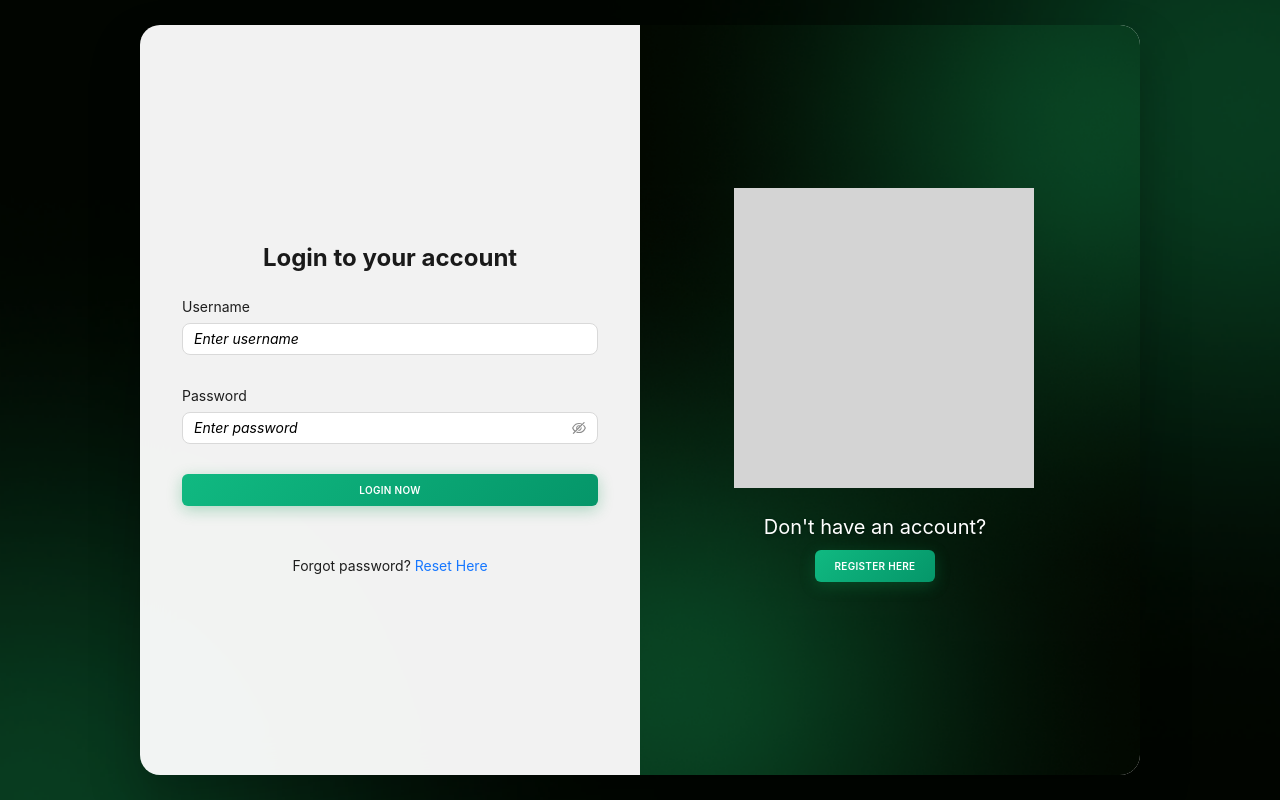
Test: Login Component › Register Form › switches to register form when toggle button is clicked
The width and height of the screenshot is (1280, 800).
Click the button "Register Here": (875, 566) [814,550,936,582]
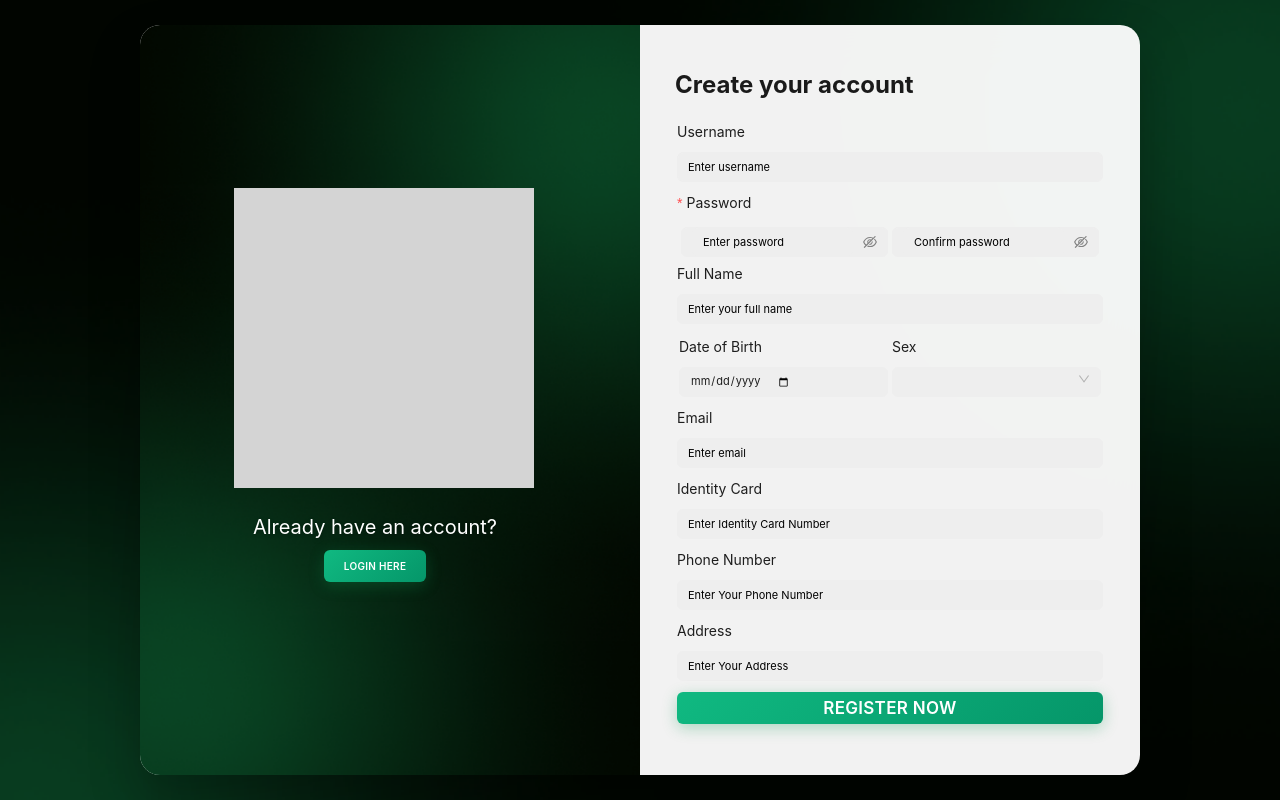
Expected: the heading "Create your account" is shown, [675,70,914,99]
Expected: the button "Register now" is shown, [677,692,1103,724]
